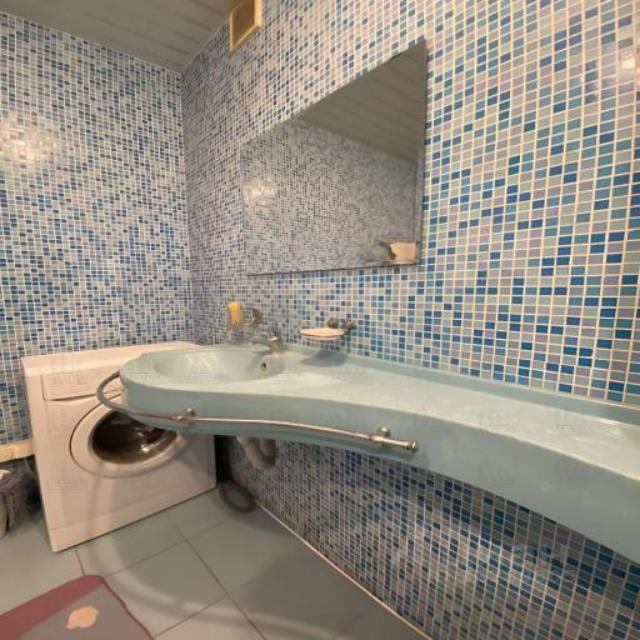Washing-Machine: (11, 334, 213, 554)
